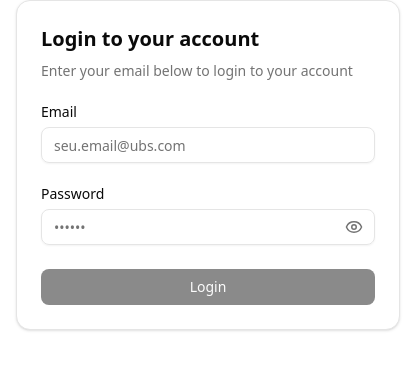
Test: LoginForm › shows email error on blur with invalid email
The width and height of the screenshot is (417, 376).
Step 1. Type "invalidemail" into the field labelled "Email" → (208, 145), box x1=41 y1=127 x2=375 y2=163
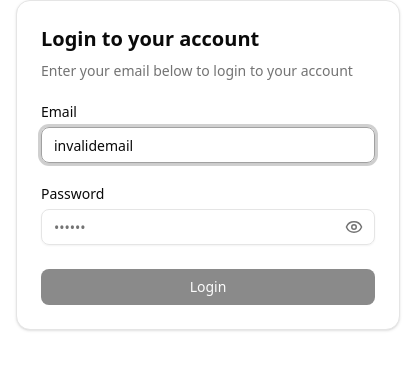
Step 2. Press Tab
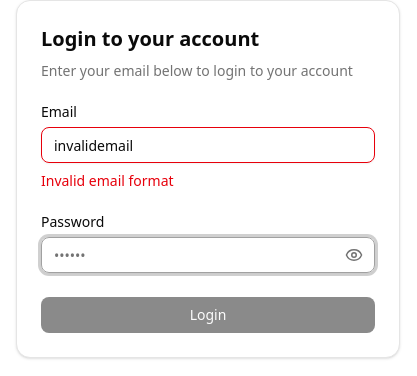
Expected: the text "Invalid email format" is shown, x1=41 y1=171 x2=174 y2=190
